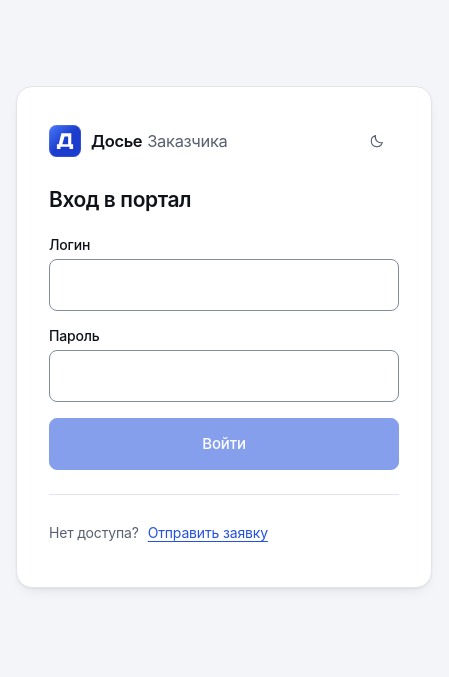
Scenario: заявка на доступ › вход по заявке: «ещё не одобрена» и «отклонена» — словами, экран входа остаётся
The width and height of the screenshot is (449, 677).
Type "ivanov" into the field labelled "Логин" at (224, 285), box [49,259,399,311]
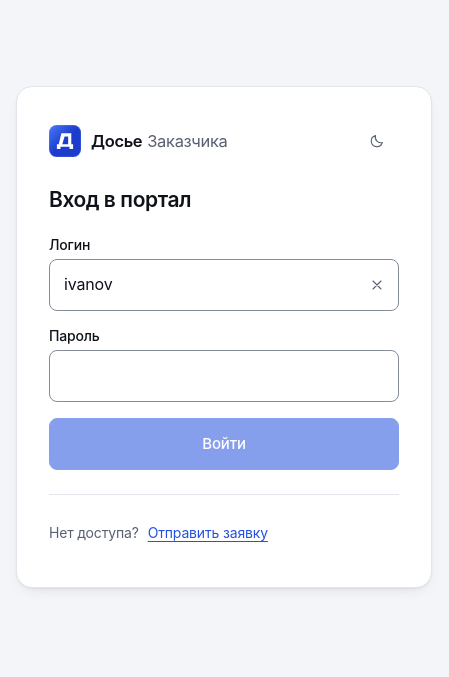
Type "Own-Secret-Pass-9" into the password field labelled "Пароль" at (224, 376), box [49,350,399,402]
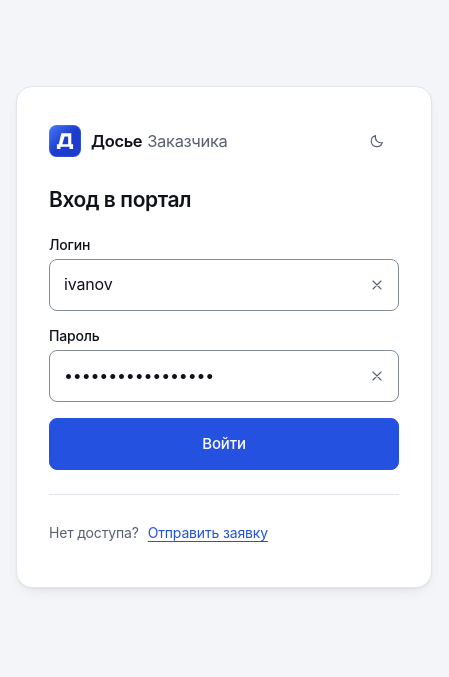
Click the button "Войти" at (224, 444), box [49,418,399,470]
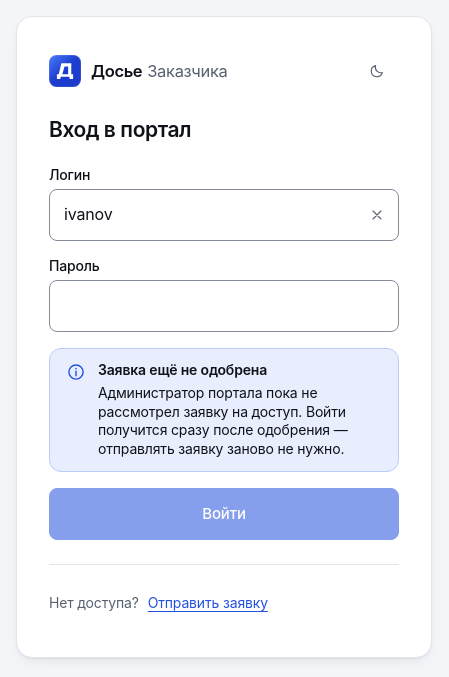
expect the message shows "Заявка ещё не одобрена": met, box [98,361,267,378]
expect the message shows "отправлять заявку заново не нужно": met, box [98,384,348,457]
Type "Own-Secret-Pass-9" into the password field labelled "Пароль" at (224, 306), box [49,280,399,332]
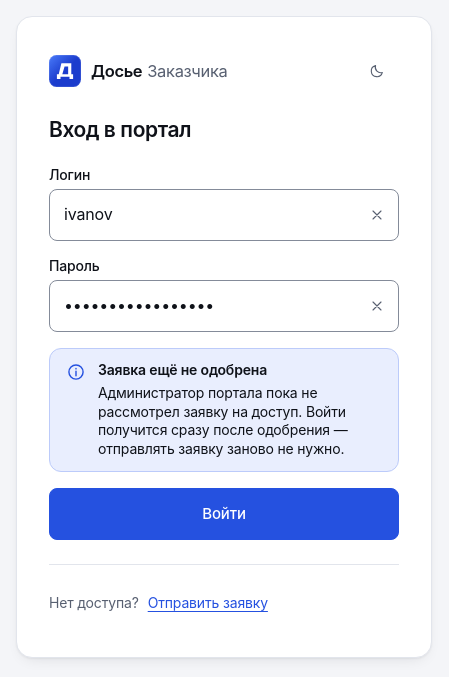
Click the button "Войти" at (224, 514), box [49,488,399,540]
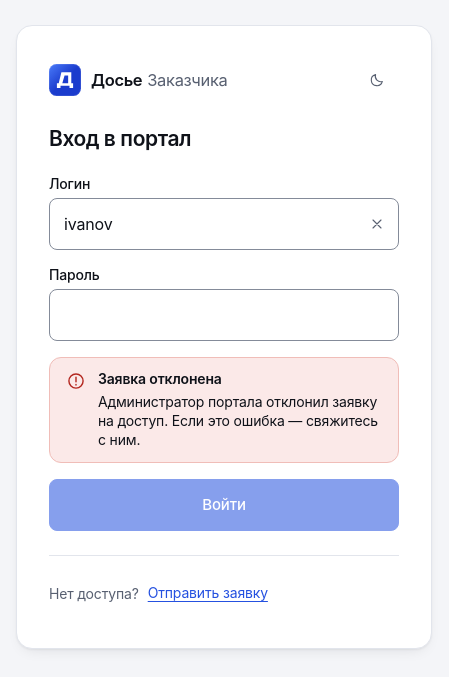
expect the message shows "Заявка отклонена": met, box [98,370,222,387]
expect the message shows "свяжитесь": met, box [98,393,378,448]
